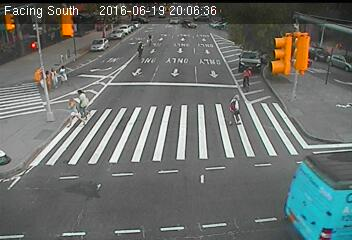neg: (287, 178, 326, 230), (271, 186, 297, 220), (328, 79, 337, 91)
pos: (219, 90, 245, 124)
